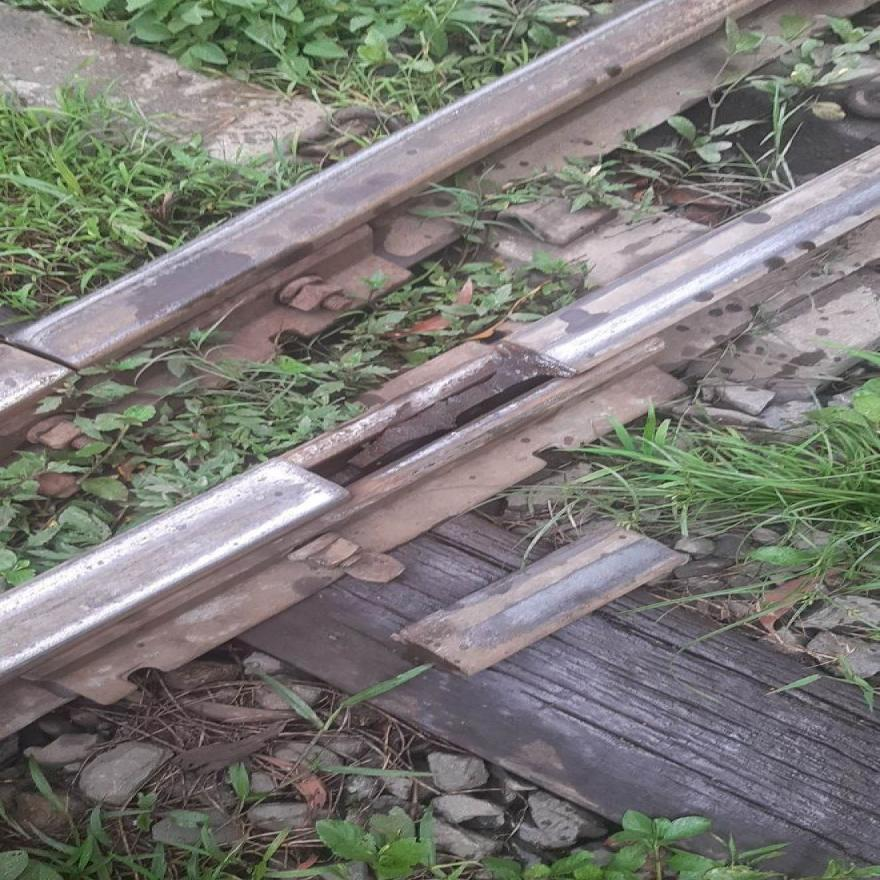railway-gap: (241, 336, 594, 494), (0, 287, 89, 424)
